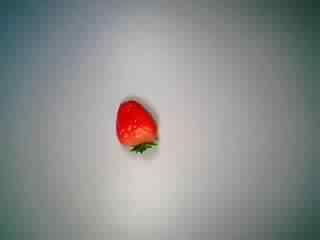strawberry: (102, 89, 164, 159)
